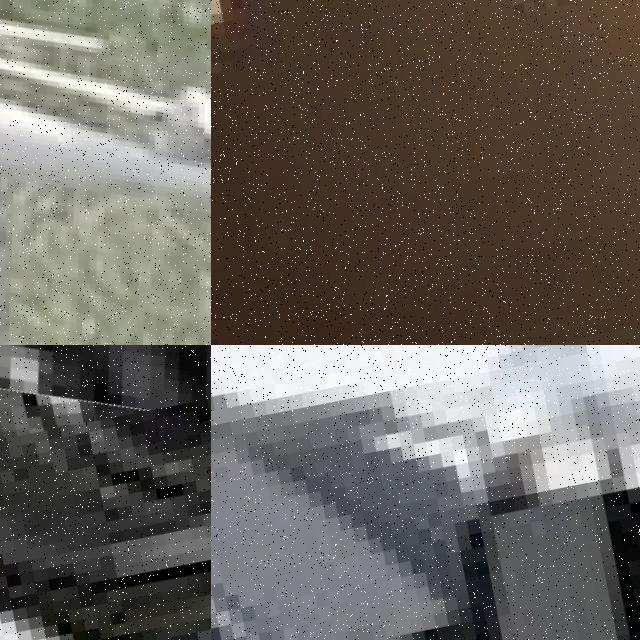drone: (0, 0, 211, 345), (0, 345, 211, 472)
